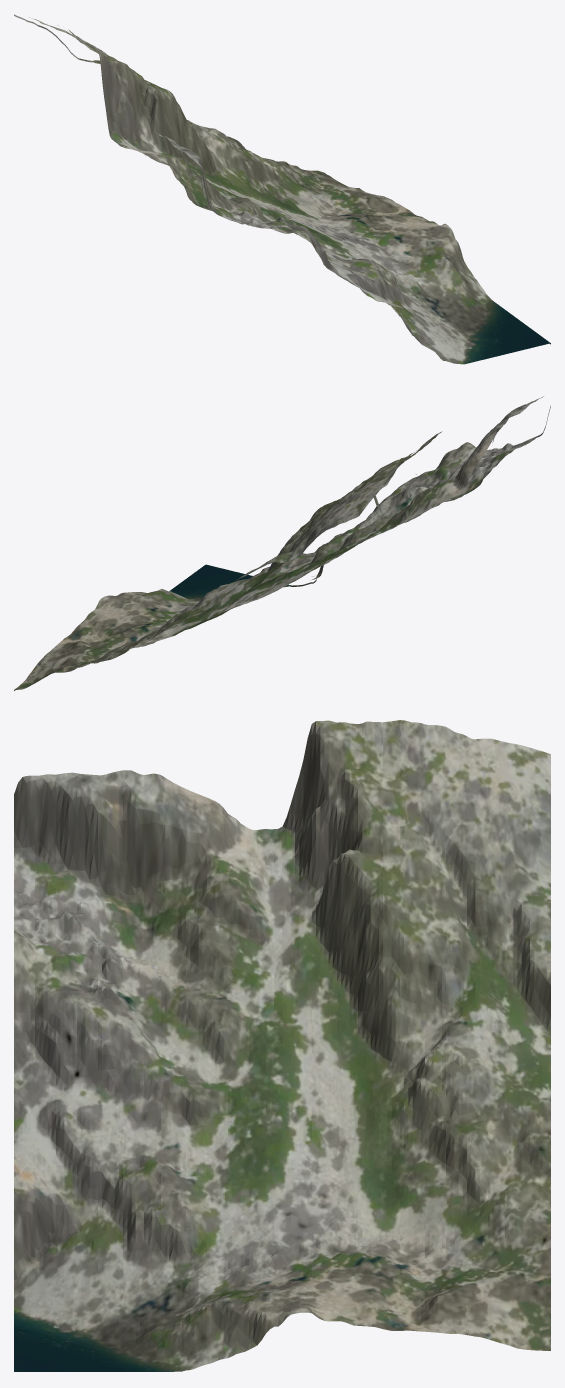
3 views of the same model, one above another, from view 1: azimuth 30°, elevation 25°; view 2: azimuth 150°, elevation 25°; view 3: azimuth 270°, elevation 25° (orthographic). The views are drawn at different scales.
Size of the model in its own units: 250 by 207 by 241.
1 material, 1 textured.
